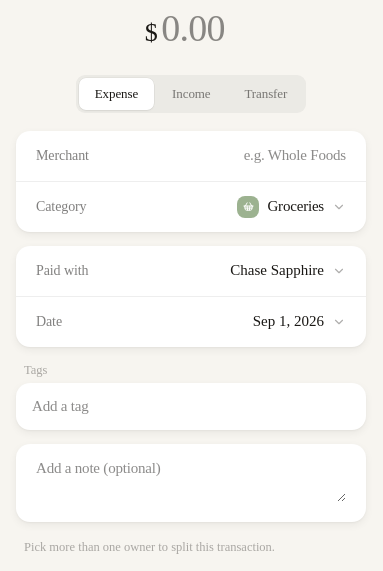
Test case: TxForm — income deposit accounts (spec 033) › income form shows "No accounts yet" when depositAccounts is empty
Click the tab "Income" at [191, 94], box [156,78,226,110]
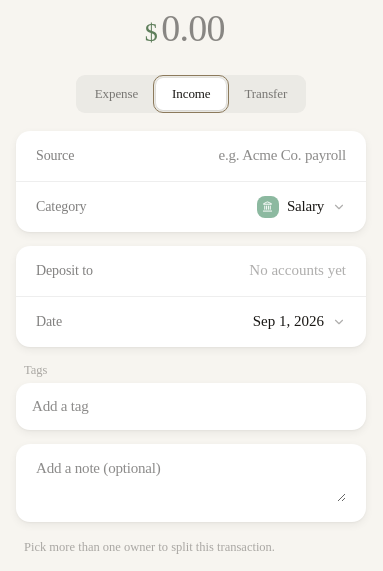
Check: the text "No accounts yet" is shown, box [249,259,346,282]
